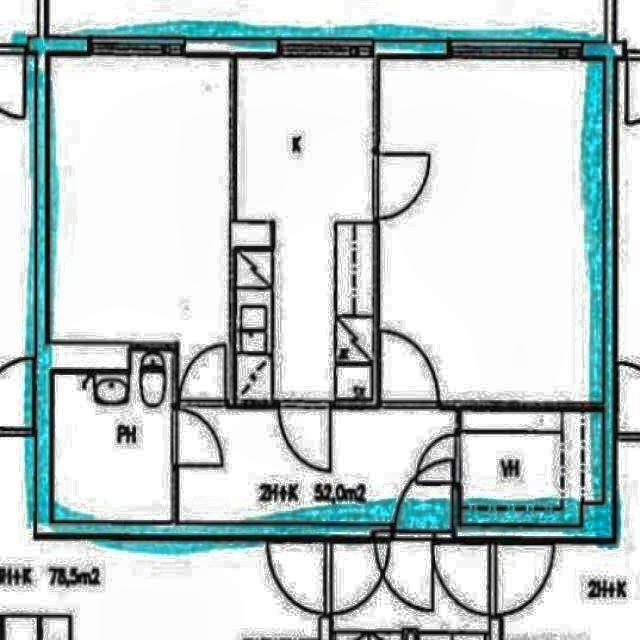room: (380, 59, 603, 401), (50, 56, 229, 400), (236, 57, 373, 400), (54, 351, 172, 522), (461, 412, 603, 524)
